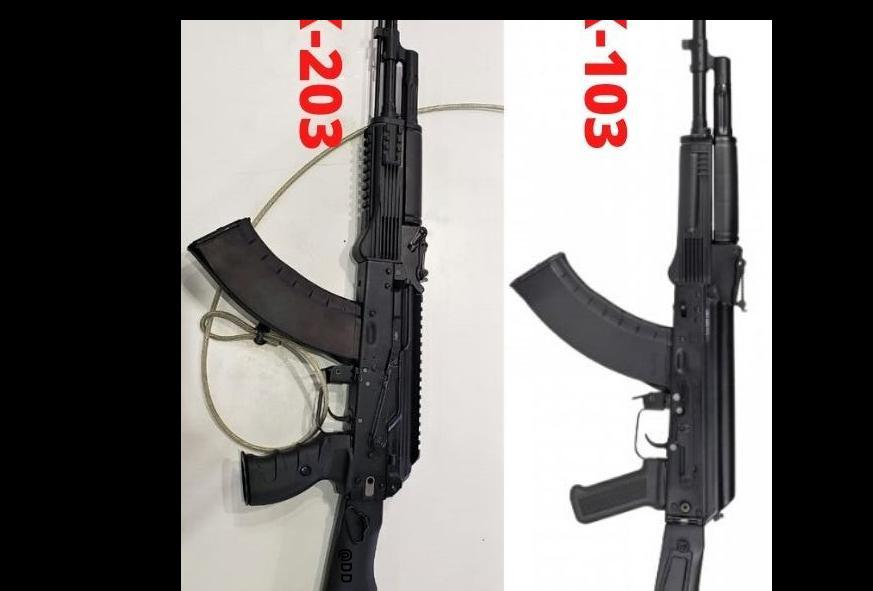larga: (510, 19, 751, 591), (188, 22, 430, 591)
